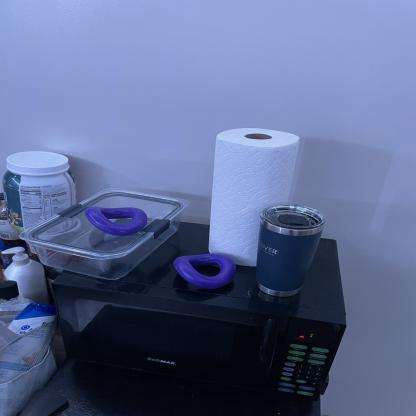ring: (172, 253, 237, 289), (83, 204, 148, 234)
